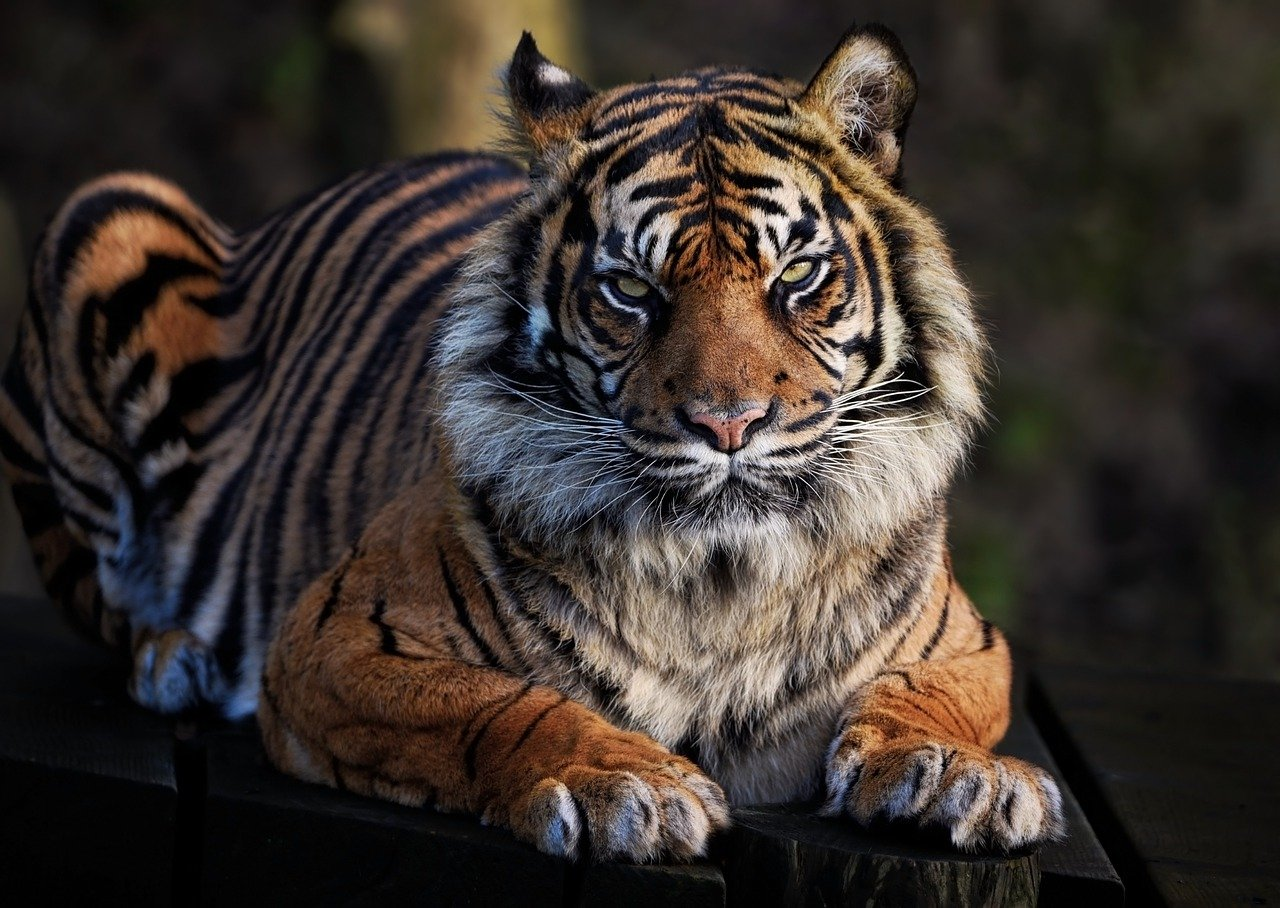tiger: (385, 17, 1022, 601)
